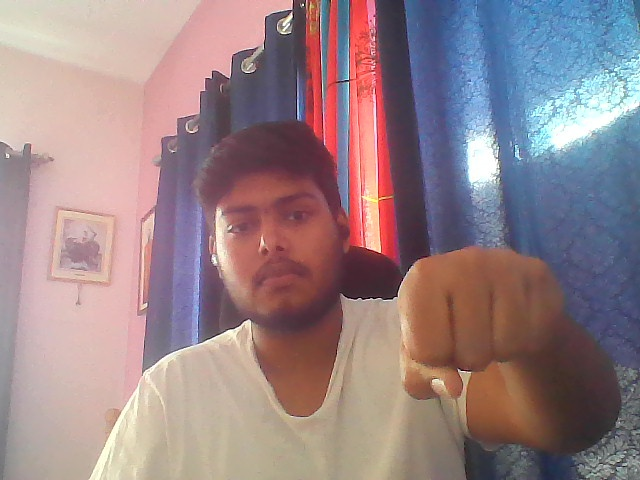Yes: (384, 239, 600, 406)
